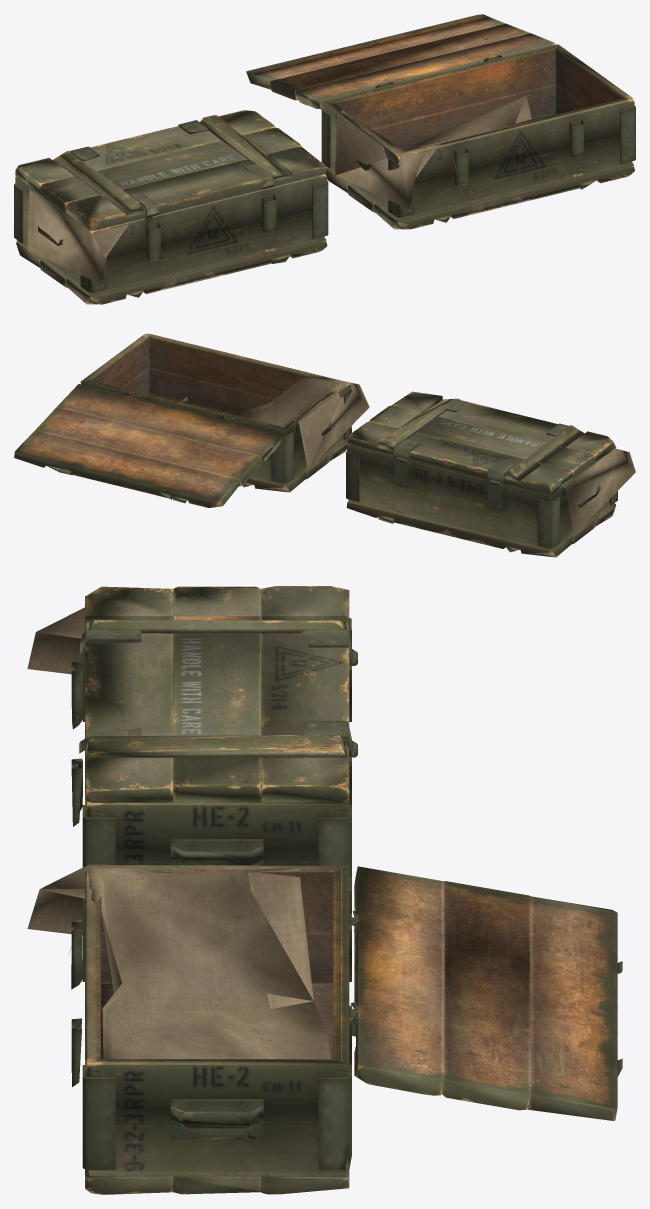
File: military_crate.glb
3 views of the same model, one above another, from view 1: azimuth 30°, elevation 25°; view 2: azimuth 150°, elevation 25°; view 3: azimuth 270°, elevation 25° (orthographic). The views are drawn at different scales.
Parts seen in each view (by area): view 1: old_military_crate_lid_a; view 2: old_military_crate_lid_a; view 3: old_military_crate_lid_a.
Part boxes in pixels (bbox=[...]): old_military_crate_lid_a: bbox=[14, 14, 635, 304]; old_military_crate_lid_a: bbox=[14, 333, 635, 557]; old_military_crate_lid_a: bbox=[27, 586, 622, 1194].
Size of the model in its own units: 1.81 by 0.2982 by 0.9677.
1 material, 1 textured.
